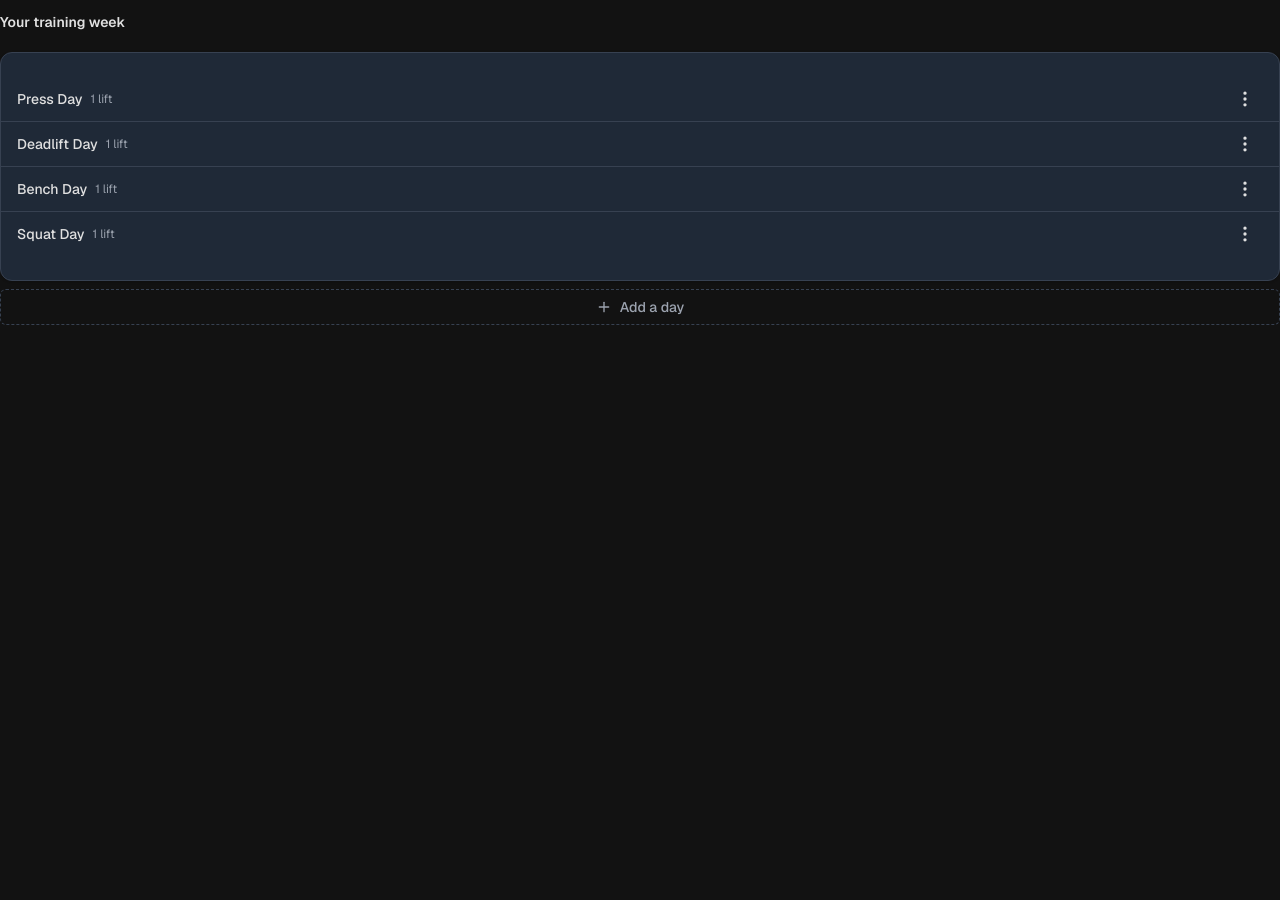
Scenario: a 5/3/1 main lift › shows the wave as a badge and offers no sets box
Click the button "Press Day 1 lift": (50, 99) [17, 77, 1219, 121]
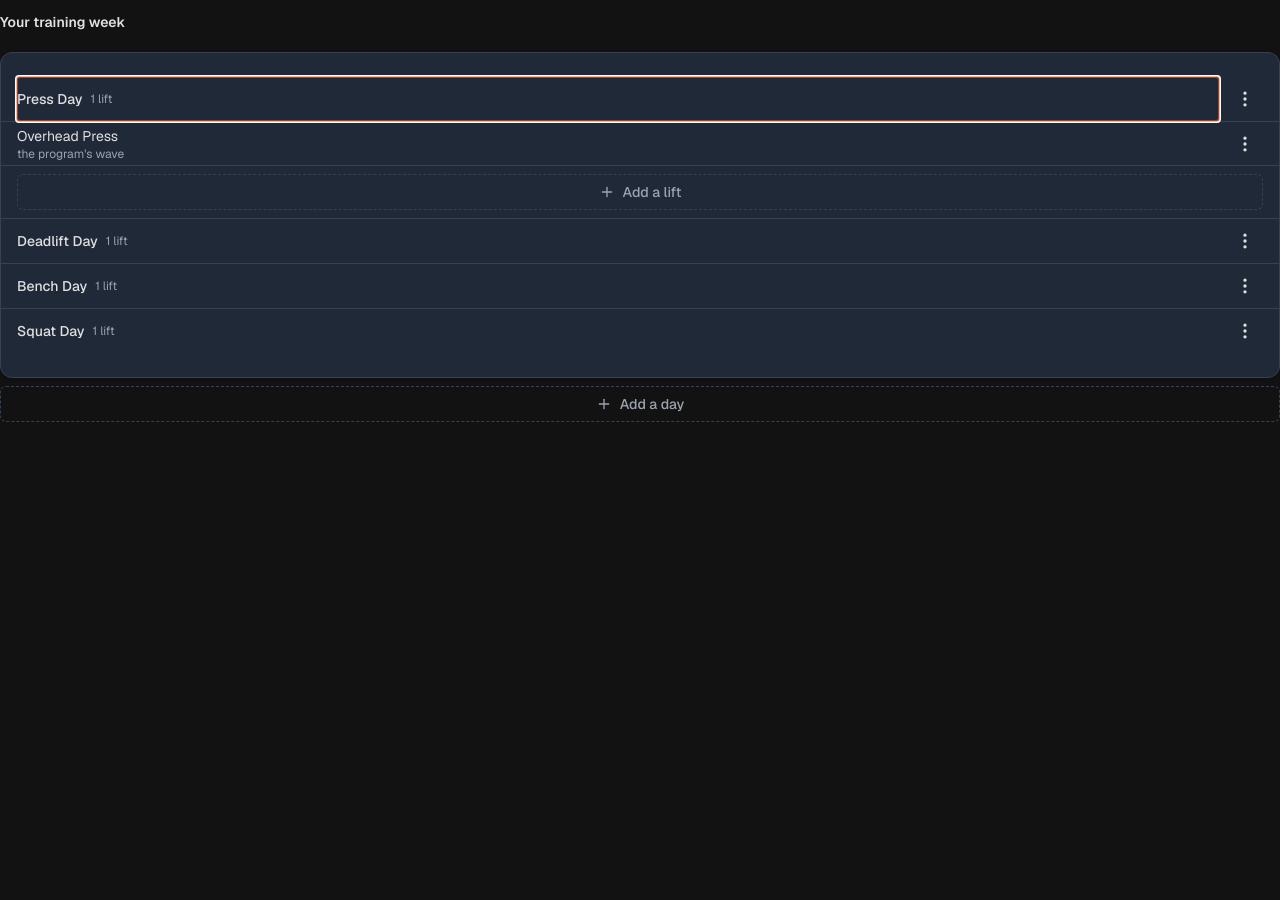
Click the button named "Options for Overhead Press": (1245, 144) [1227, 126, 1263, 162]
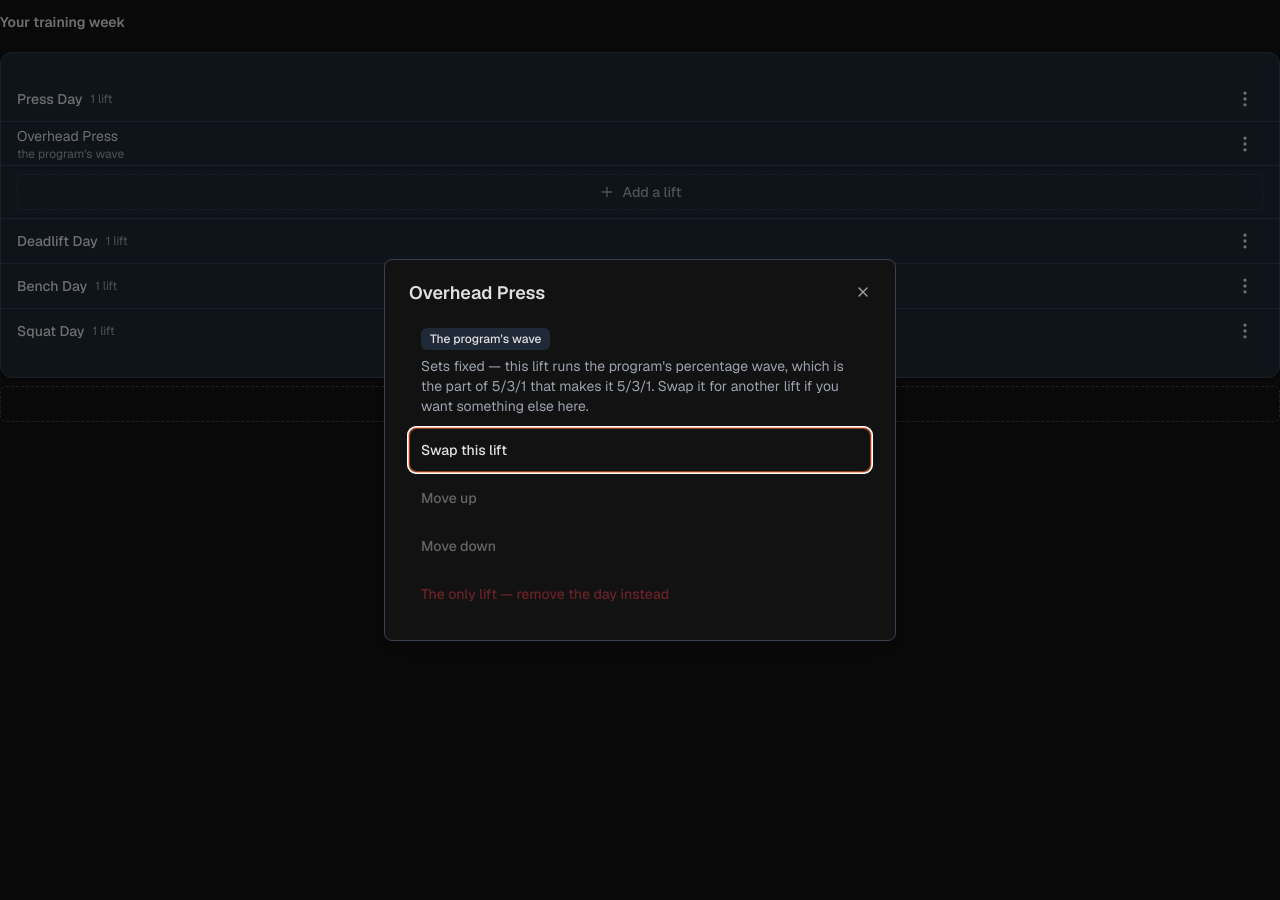
Check: the text "The program's wave" is shown, box [421, 328, 550, 350]
Check: the button with test id "editor-lift-swap" is shown, box [409, 428, 871, 472]
